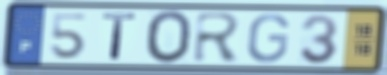3: (298, 12, 342, 66)
5: (47, 11, 89, 60)
G: (245, 12, 292, 65)
O: (145, 8, 195, 66)
R: (191, 11, 244, 64)
T: (100, 11, 139, 62)
